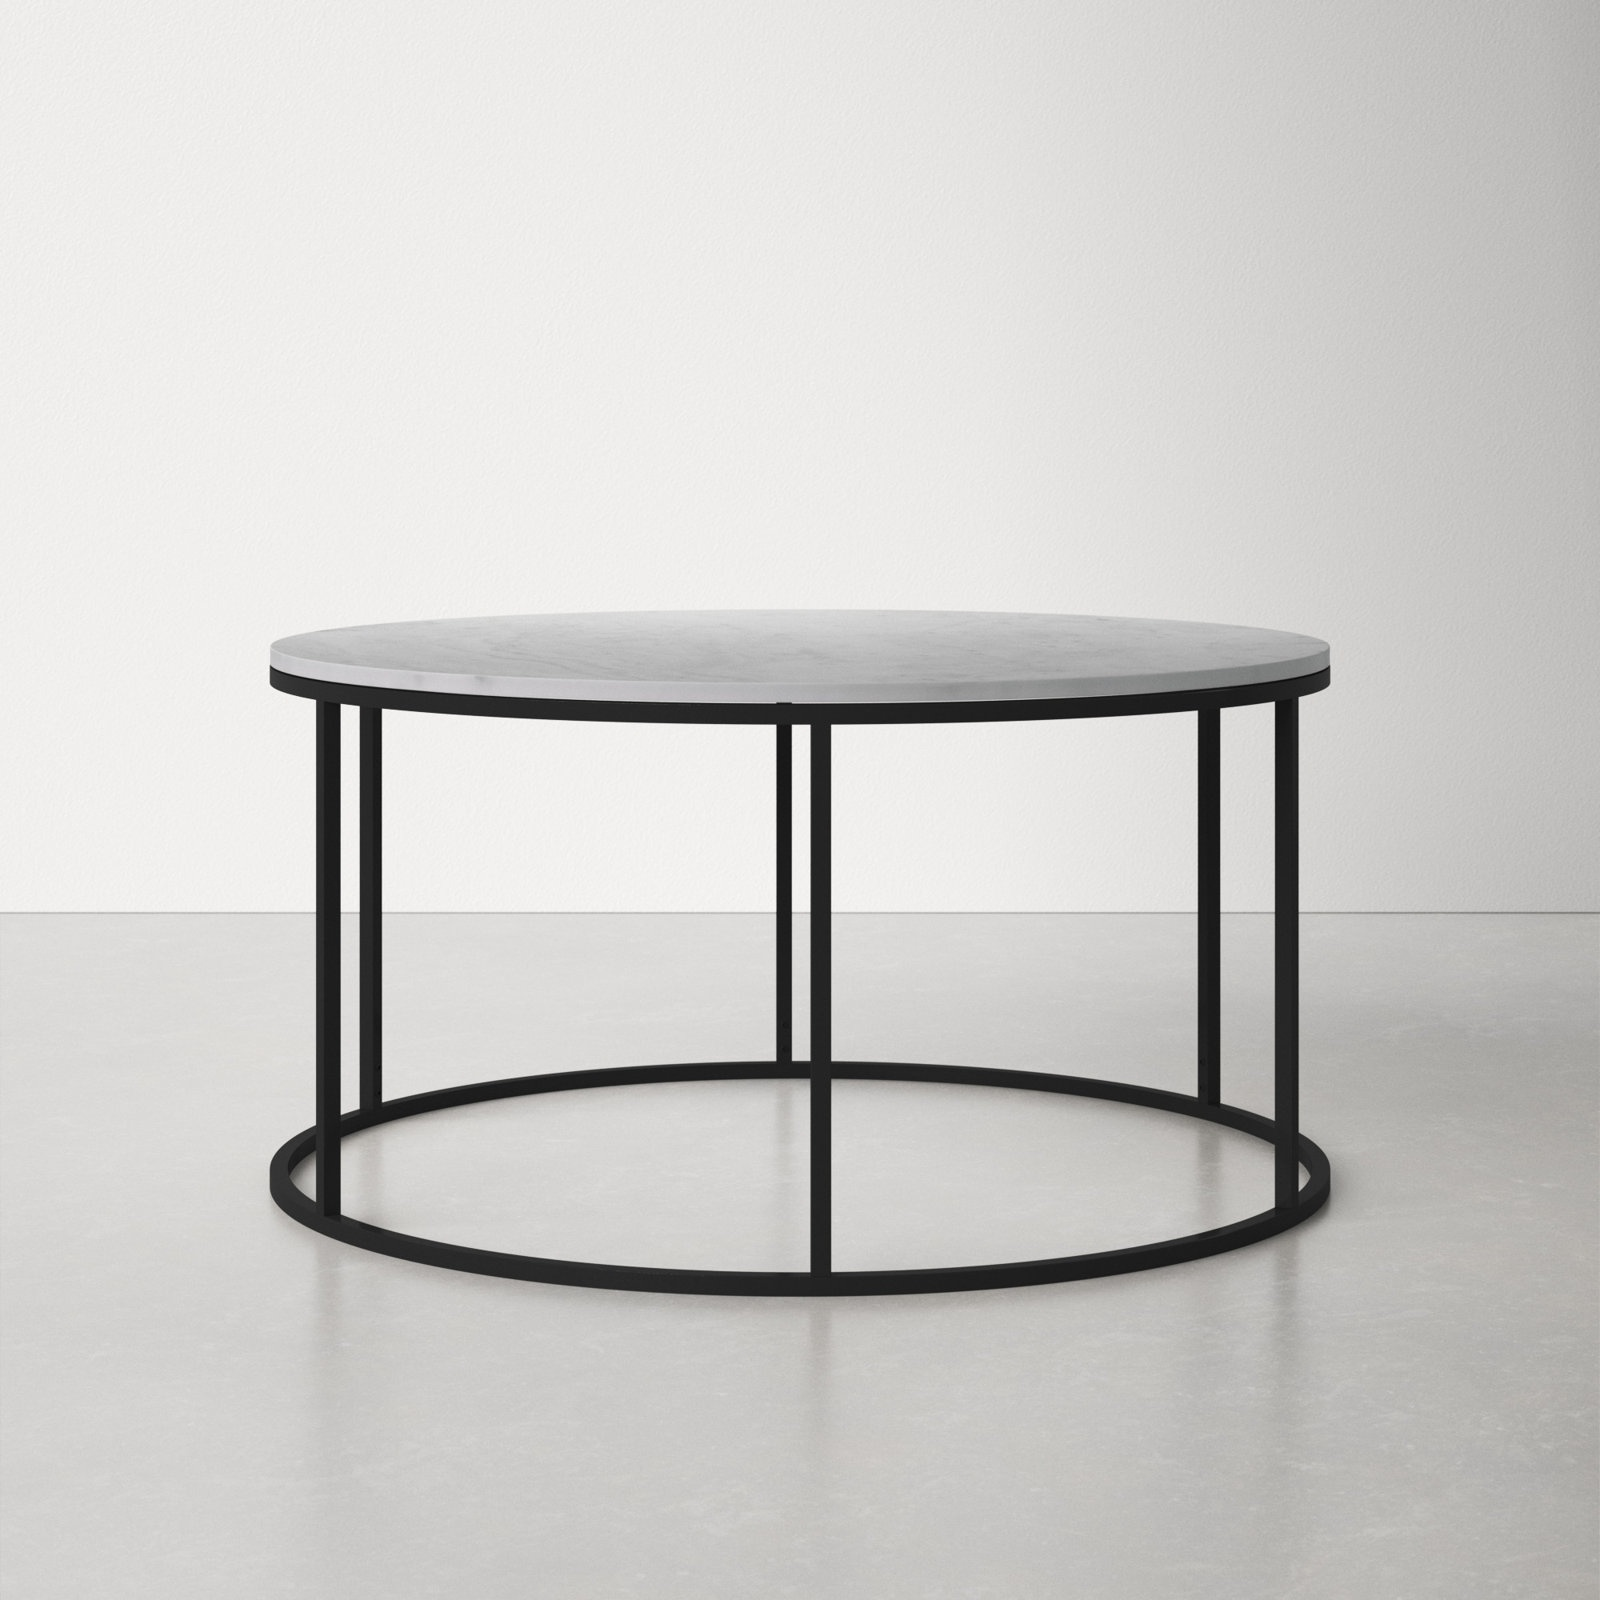obstacle: (270, 610, 1329, 1295)
